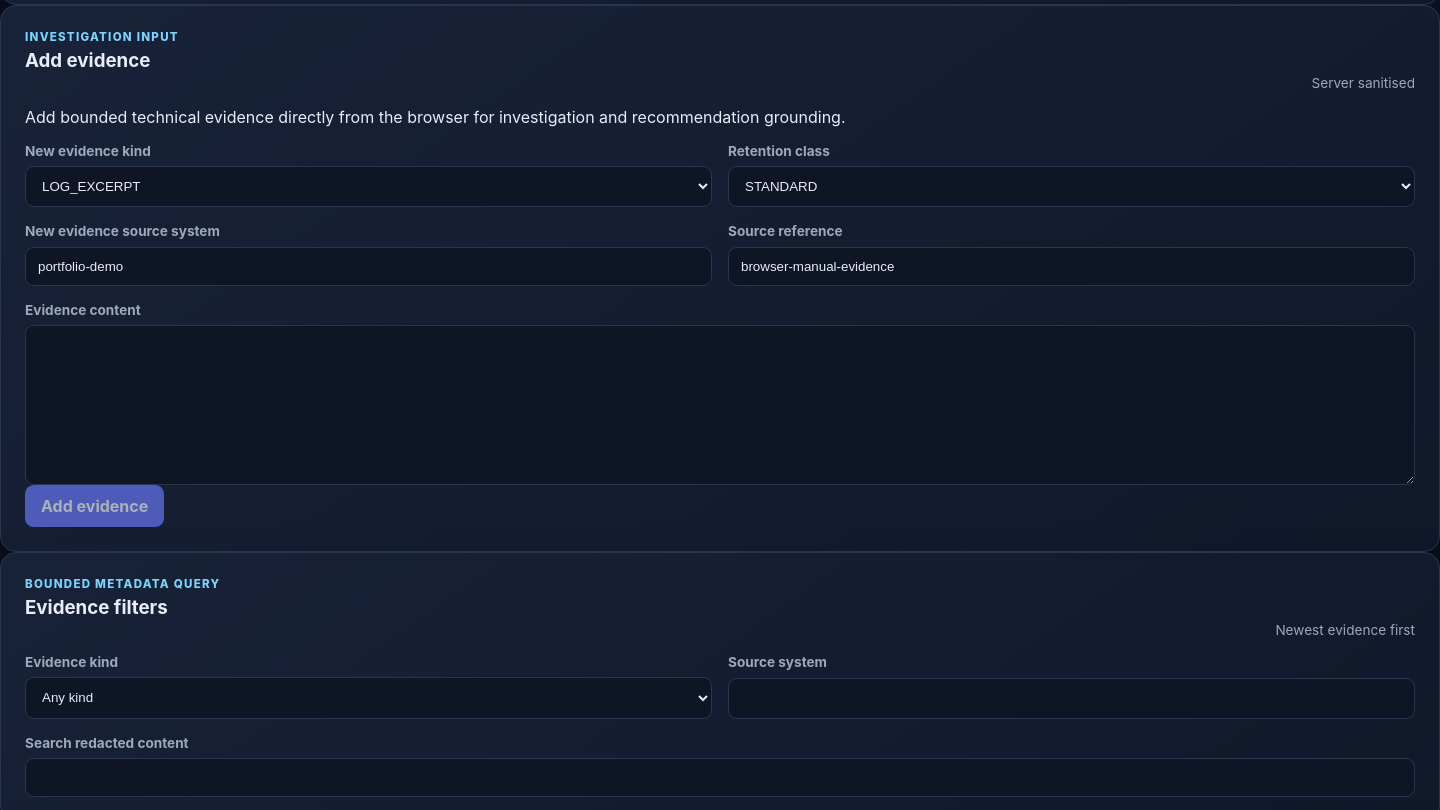
Test: browser evidence creation › shows the pending state
(page scrolled)
Step 1. Type "dependency timeout" into the text box labelled "Evidence content" → (720, 405), box [25, 325, 1415, 485]
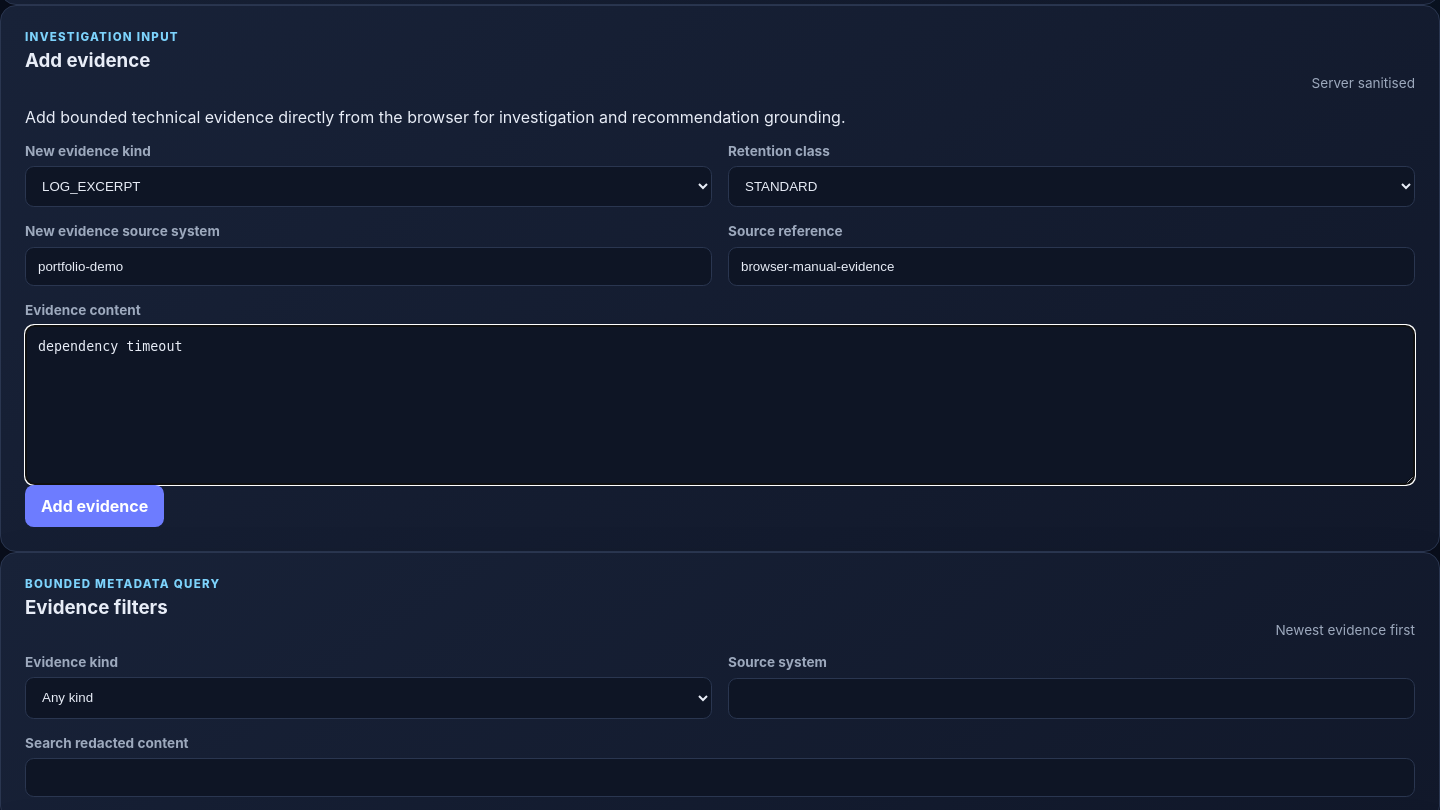
Step 2. Click the button "Add evidence" → (95, 506), box [25, 485, 164, 527]
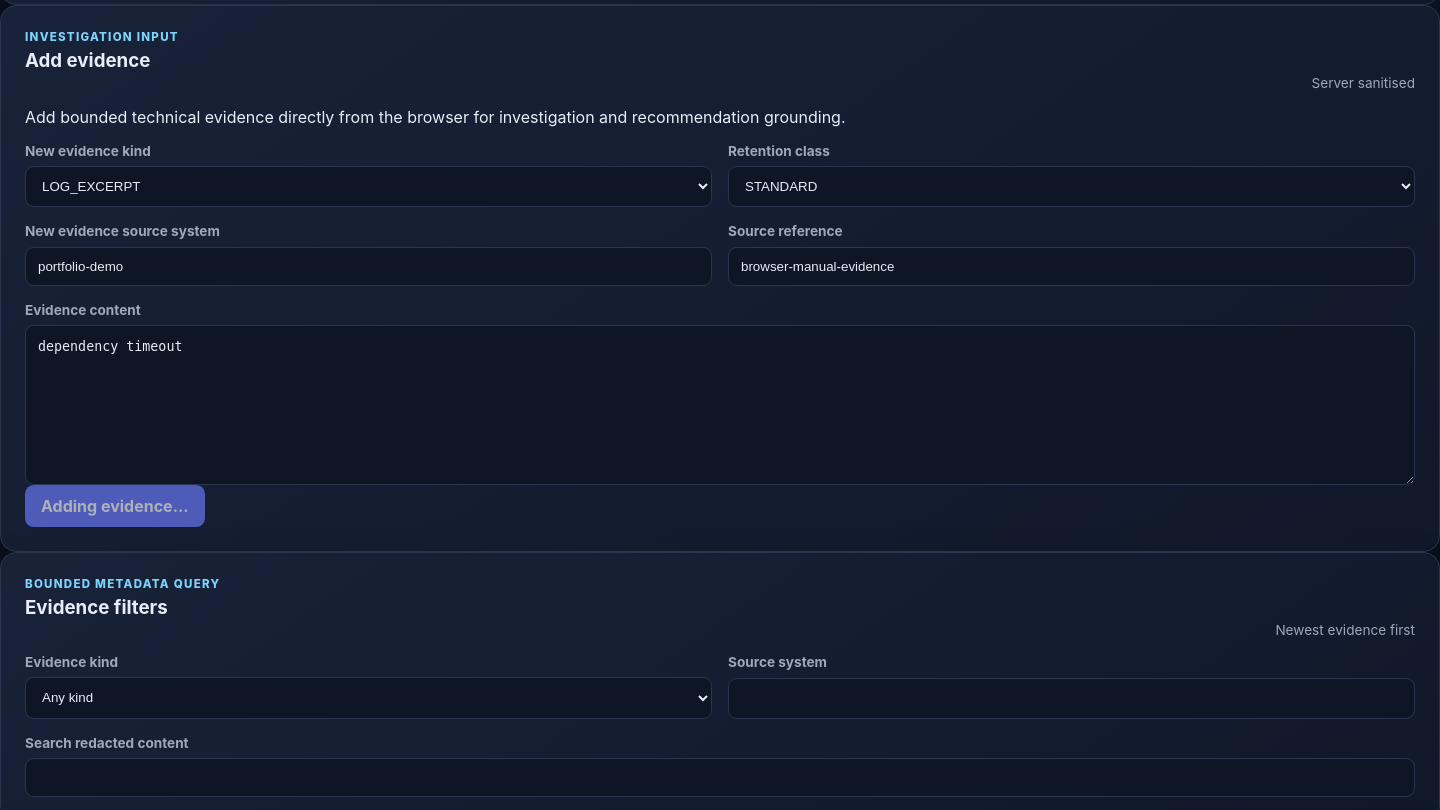
Expected: the button "Adding evidence..." is disabled, [25, 485, 205, 527]
